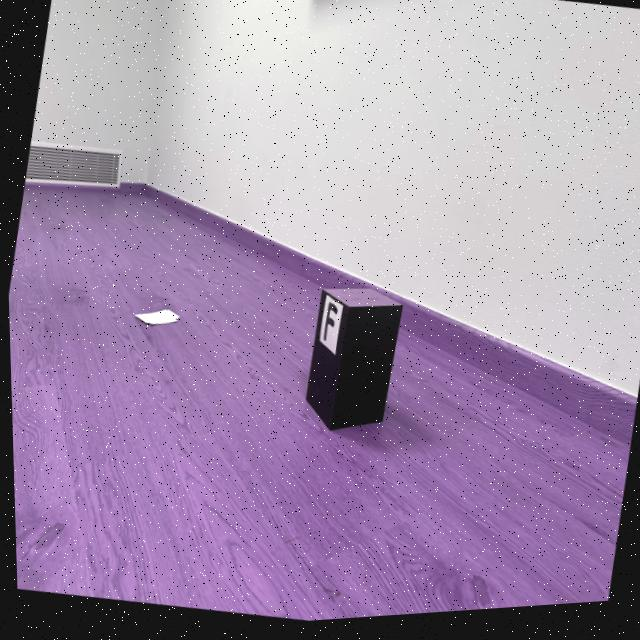F: (320, 306, 335, 345)
